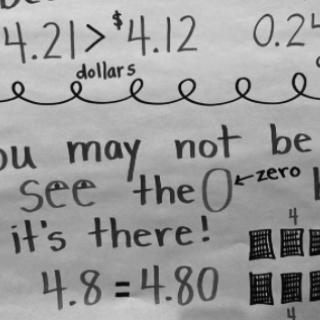.: (66, 298, 77, 307), (163, 294, 173, 303), (30, 52, 38, 61), (152, 44, 159, 54), (273, 40, 280, 47)
0: (196, 265, 219, 303), (250, 12, 274, 47)
1: (68, 17, 77, 60), (164, 14, 172, 54)
2: (175, 13, 199, 54), (41, 19, 63, 60), (286, 12, 307, 50)
4: (1, 21, 28, 64), (139, 263, 166, 305), (39, 268, 67, 308), (125, 14, 151, 56)
8: (78, 268, 103, 307), (172, 264, 195, 305)
